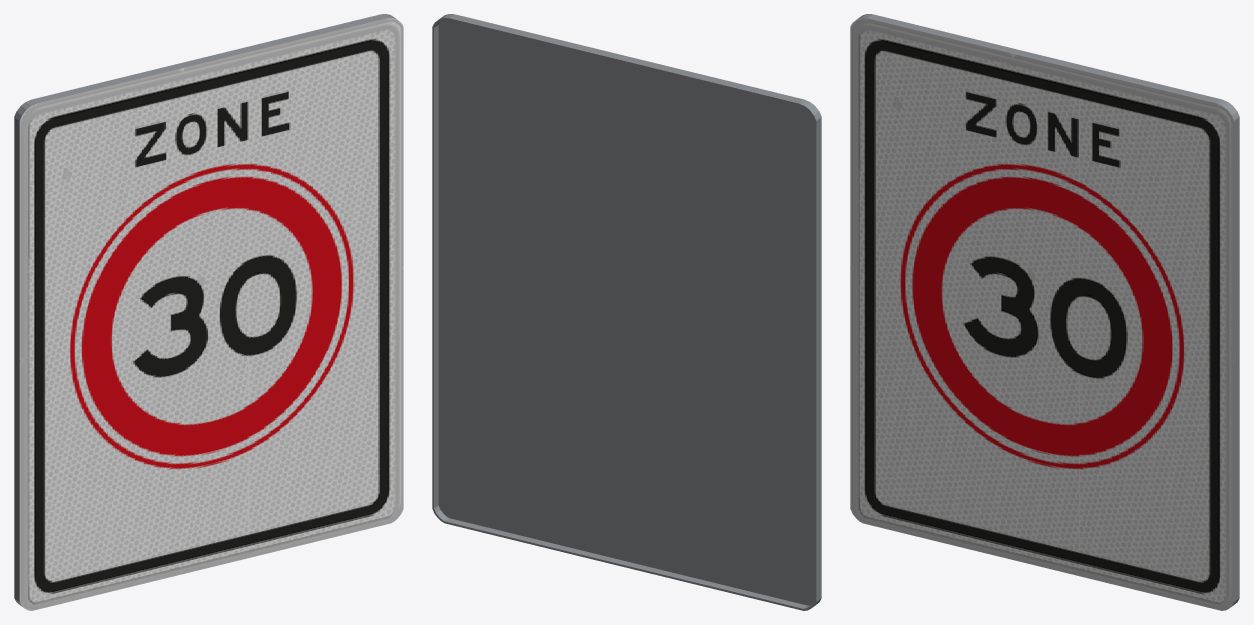
3 renders of one model, left to right at view 1: azimuth 30°, elevation 25°; view 2: azimuth 150°, elevation 25°; view 3: azimuth 330°, elevation 25°, orthographic.
Parts seen in each view (by area): view 1: cat_f40b9cb8fcfa03f1; view 2: cat_f40b9cb8fcfa03f1; view 3: cat_f40b9cb8fcfa03f1.
Boxes of the visible parts, left/top/right/bottom form: cat_f40b9cb8fcfa03f1: left=14, top=14, right=403, bottom=610; cat_f40b9cb8fcfa03f1: left=432, top=14, right=821, bottom=610; cat_f40b9cb8fcfa03f1: left=850, top=14, right=1239, bottom=610.
Size of the model in its own units: 0.6 by 0.015 by 0.7558.
2 materials, 1 textured.
